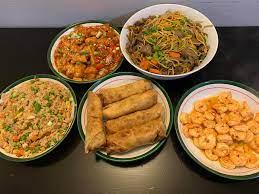Braised Crucian Carp: (173, 79, 258, 181), (77, 71, 171, 162), (119, 2, 217, 80), (0, 74, 77, 161), (47, 21, 123, 85)
